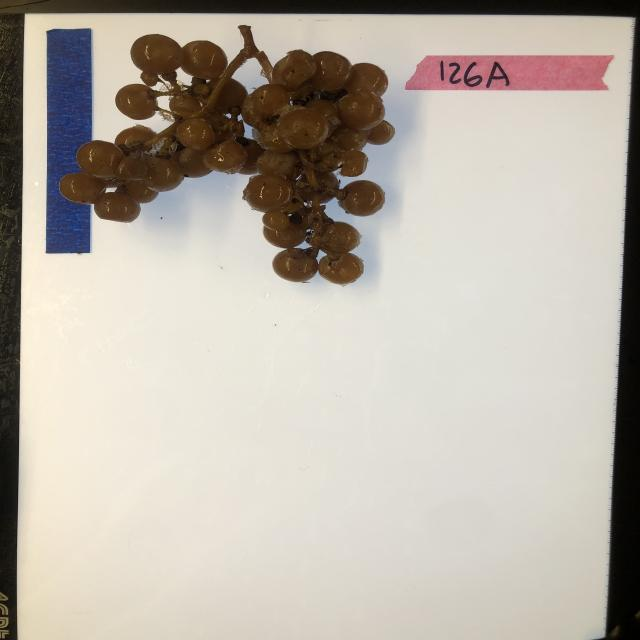grape_cluster: (59, 20, 397, 287)
index: (406, 54, 616, 92)
measure_label: (44, 25, 94, 256)
